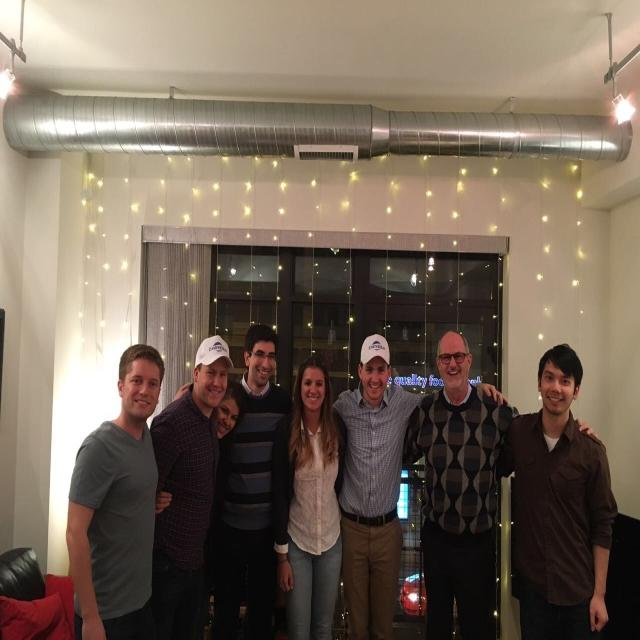body: (401, 328, 600, 640), (329, 331, 509, 639), (502, 342, 620, 639), (64, 342, 168, 640), (147, 334, 231, 640), (272, 354, 348, 640), (232, 321, 290, 634), (215, 380, 243, 441)
